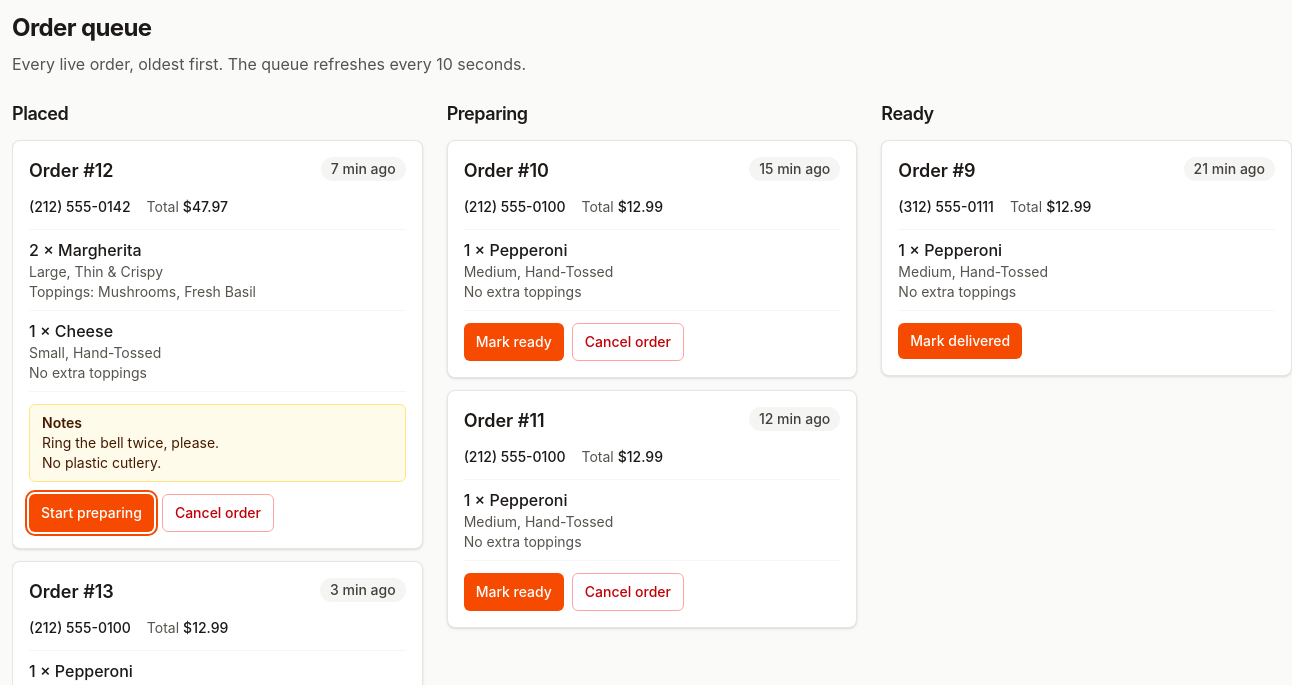
Test: StaffOrderQueuePage status changes › shows a server error on the card with a retry, without refreshing
The width and height of the screenshot is (1292, 685).
Click the button named "Start preparing order #12" at point(91, 513), box [29,494,154,532]
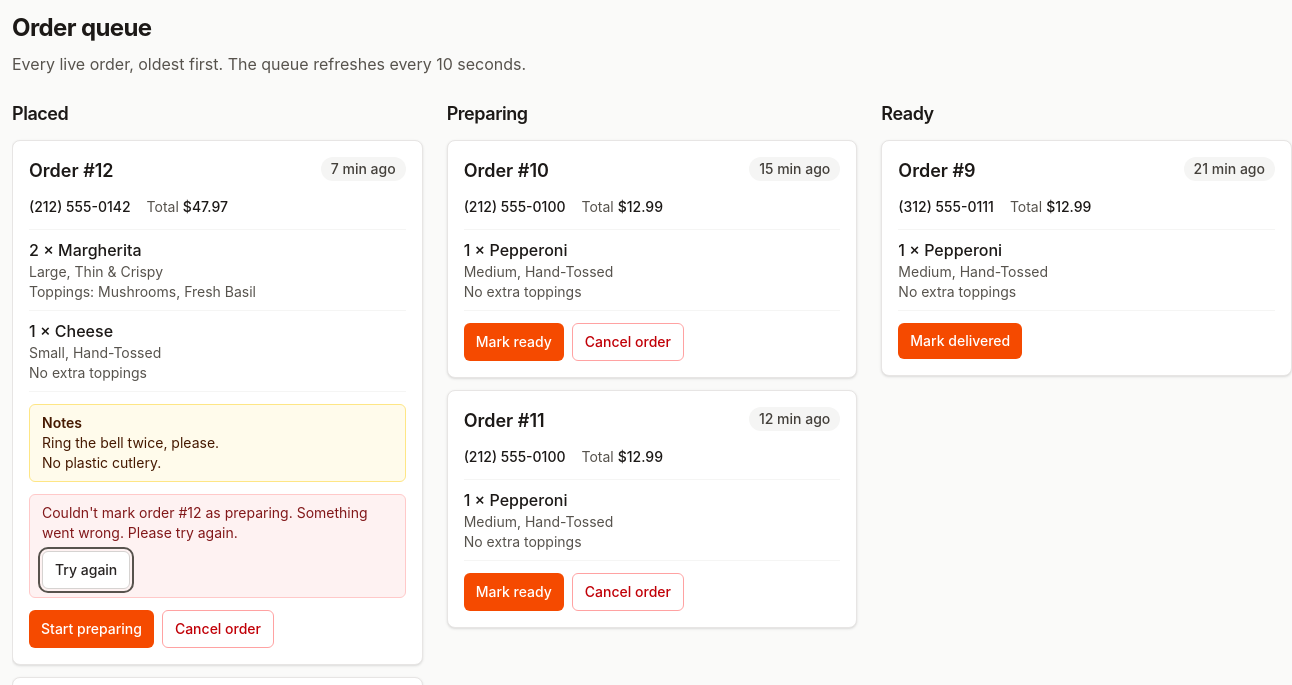
Expected: the button named "Start preparing order #12" is enabled, [29,610,154,648]
Expected: the message shows "Couldn't mark order #12 as preparing. Something went wrong. Please try again.", [29,494,406,598]
Click the button named "Try again for order #12" at point(86, 570), box [42,551,130,589]
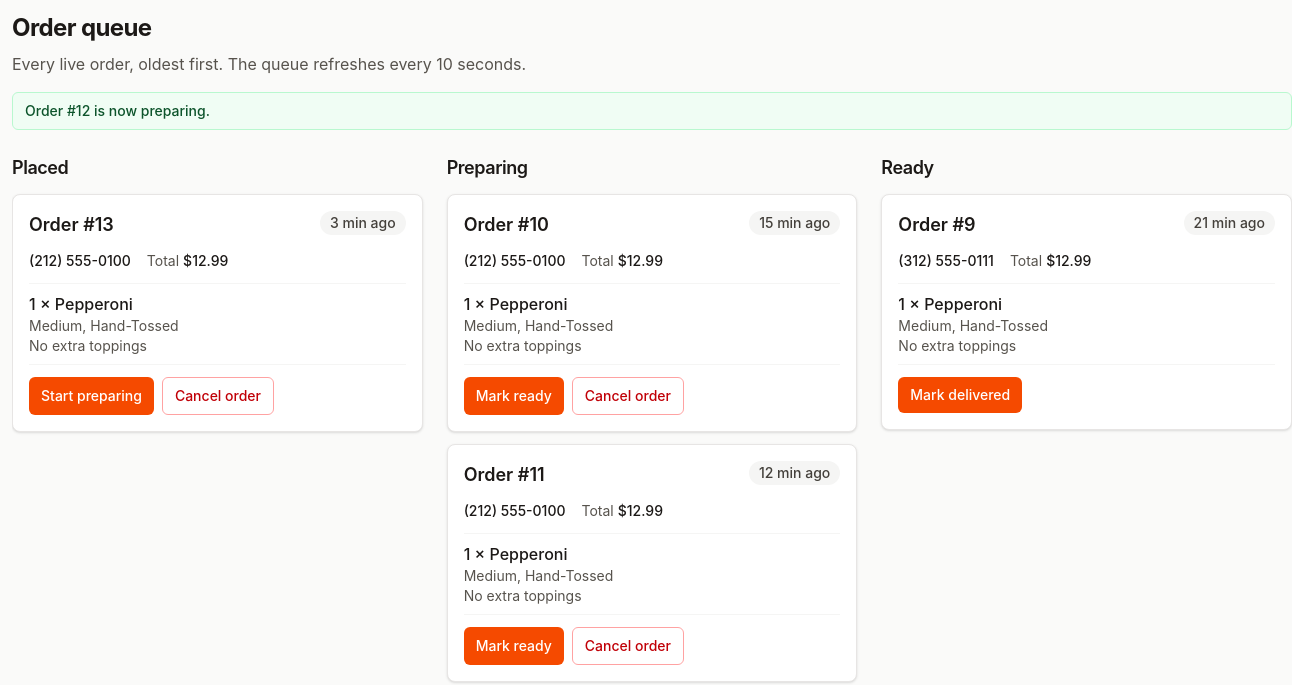
Expected: the text "Order #12 is now preparing." is shown, [12,92,1291,130]
